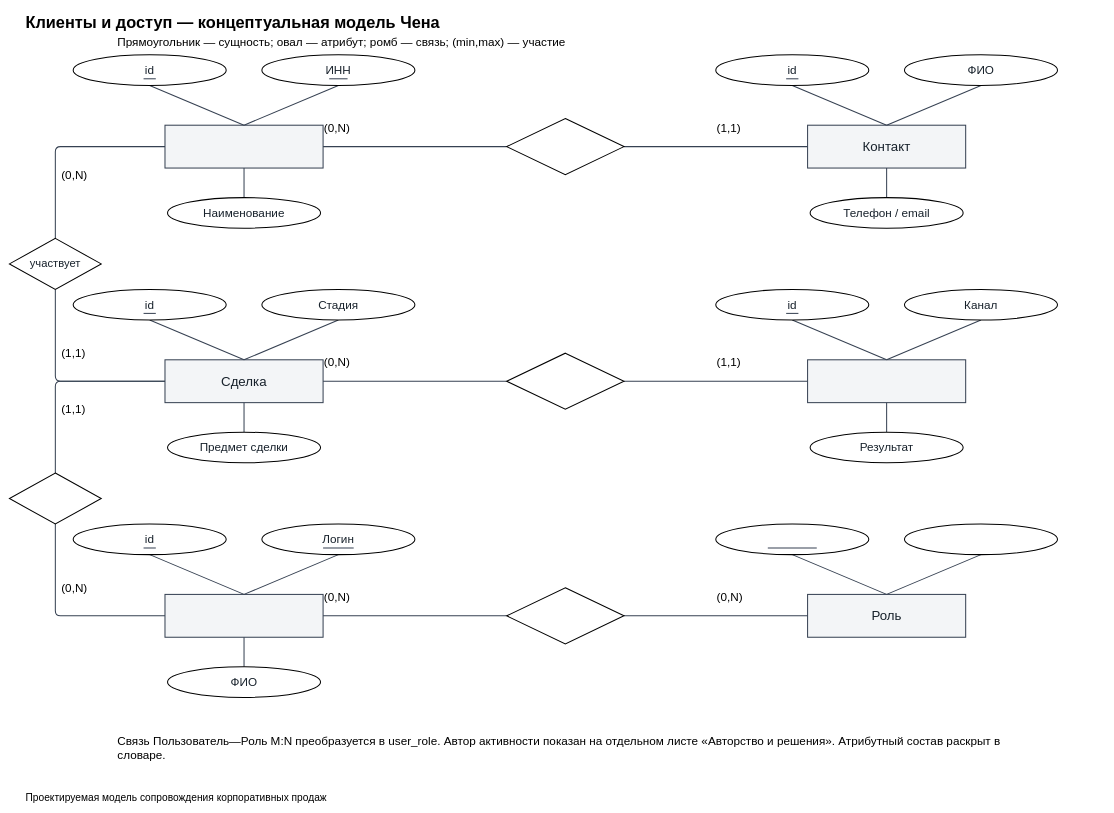
Image size: 1114x813. Some labels were removed from this diagram. The centre of each missing label's shape, as x and y in pixels:
"ведётся" goes at pixel 55 498.
"имеет" goes at pixel 565 146.
"Клиент" goes at pixel 243 146.
"Код роли" goes at pixel 792 539.
"Контакт по сделке" goes at pixel 886 381.
"Название" goes at pixel 981 539.
"назначена" goes at pixel 565 615.
"Пользователь" goes at pixel 243 616.
"содержит" goes at pixel 565 381.
